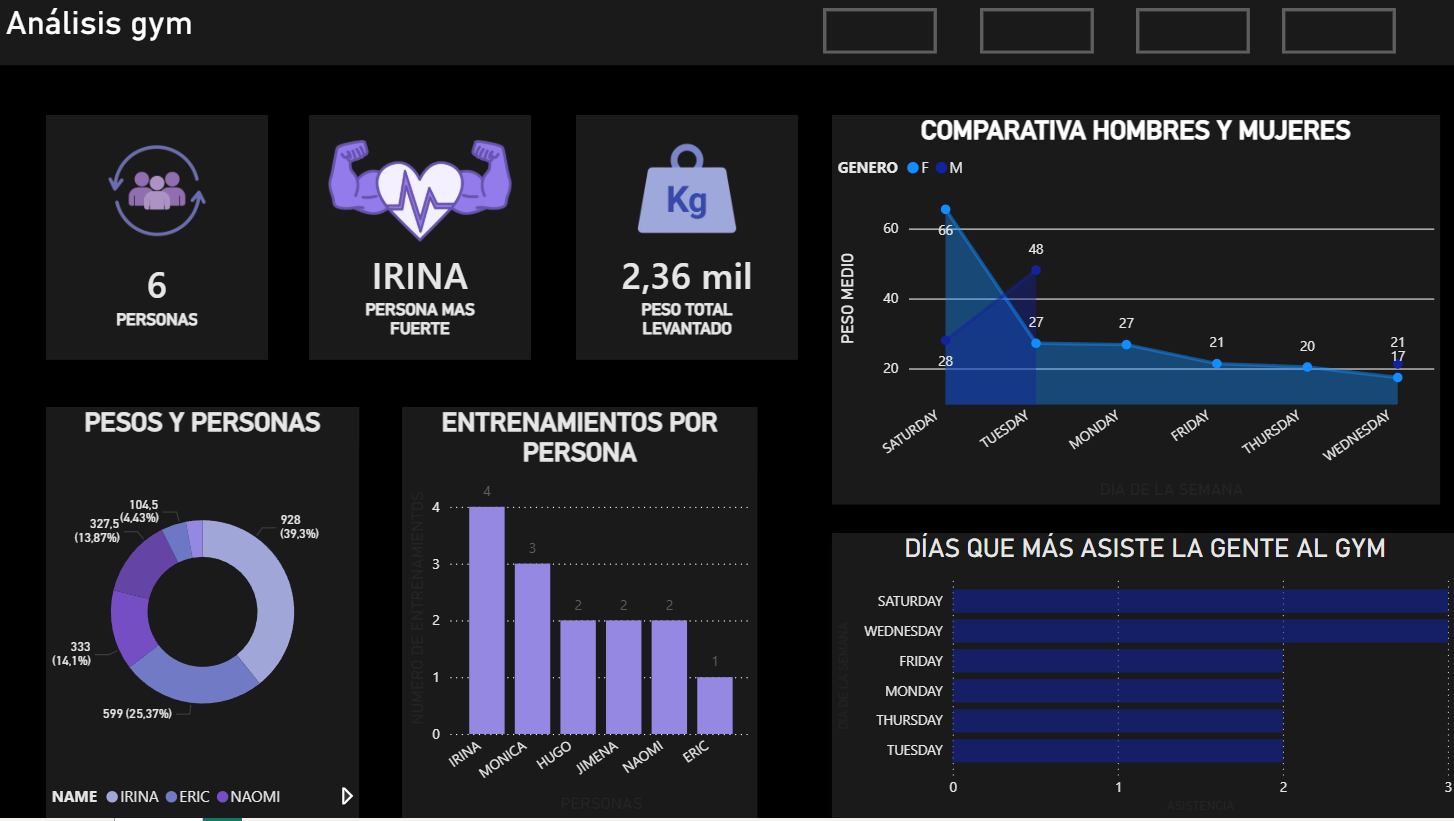

The page's visual inventory and layout, read from the dashboard file:
{"tool":"powerbi","page":{"name":"Página 2","canvas":[1280,720],"ordinal":0},"visuals":[{"type":"donutChart","title":"PESOS Y PERSONAS","fields":{"Category":["gym person.NAME"],"Y":["Sum(gym workout_details.WEIGHT)"]},"box":[40.7,359.5,274.9,361.1],"z":0},{"type":"clusteredBarChart","title":"DÍAS QUE MÁS ASISTE LA GENTE AL GYM","fields":{"Category":["gym workouts.DAY_OF_WEEK"],"Y":["gym workouts.Total_Personas_Asistieron"]},"box":[730.3,470.1,549.8,250.5],"z":1000},{"type":"lineChart","title":"COMPARATIVA HOMBRES Y MUJERES","fields":{"Category":["gym workouts.DAY_OF_WEEK"],"Series":["gym person.GENDER"],"Y":["gym workouts.Peso_Medio_Por_Genero_Y_Dia"]},"box":[730.3,102.5,533.5,341.6],"z":2000},{"type":"clusteredColumnChart","title":"ENTRENAMIENTOS POR PERSONA","fields":{"Category":["gym person.NAME"],"Y":["gym workouts.Entrenamientos_Reales"]},"box":[353,359.5,312.3,361.1],"z":3000},{"type":"textbox","box":[0,0,1280.1,58.6],"z":4000},{"type":"cardVisual","fields":{"Data":["gym person.NÚMERO DE PERSONAS QUE SISTIERON"]},"box":[40.7,102.5,195.2,214.7],"z":5000},{"type":"cardVisual","fields":{"Data":["gym person.PERSONA MAS FUERTE"]},"box":[271.6,102.5,195.2,214.7],"z":6000},{"type":"cardVisual","fields":{"Data":["gym workouts.PESO TOTAL LEVANTADO"]},"box":[505.9,102.5,195.2,214.7],"z":7000},{"type":"actionButton","box":[860.5,8.8,100.1,40.4],"z":7001},{"type":"actionButton","box":[722.6,8.8,100.1,40.4],"z":7002},{"type":"actionButton","box":[997.5,8.8,100.1,40.4],"z":7004},{"type":"actionButton","box":[1125.7,8.8,100.1,40.4],"z":7005}]}

Visuals, with their boxes in screenshot pixels (x1, y1, x2, y2), scaled from the page's 1280x720 canvas onto the 1454x821 screenshot:
"PESOS Y PERSONAS" donutChart: [left=46, top=410, right=359, bottom=820]
"DÍAS QUE MÁS ASISTE LA GENTE AL GYM" clusteredBarChart: [left=830, top=536, right=1453, bottom=820]
"COMPARATIVA HOMBRES Y MUJERES" lineChart: [left=830, top=117, right=1436, bottom=506]
"ENTRENAMIENTOS POR PERSONA" clusteredColumnChart: [left=401, top=410, right=756, bottom=820]
textbox: [left=0, top=0, right=1453, bottom=67]
cardVisual - gym person.NÚMERO DE PERSONAS QUE SISTIERON: [left=46, top=117, right=268, bottom=362]
cardVisual - gym person.PERSONA MAS FUERTE: [left=309, top=117, right=530, bottom=362]
cardVisual - gym workouts.PESO TOTAL LEVANTADO: [left=575, top=117, right=796, bottom=362]
actionButton: [left=977, top=10, right=1091, bottom=56]
actionButton: [left=821, top=10, right=935, bottom=56]
actionButton: [left=1133, top=10, right=1247, bottom=56]
actionButton: [left=1279, top=10, right=1392, bottom=56]
